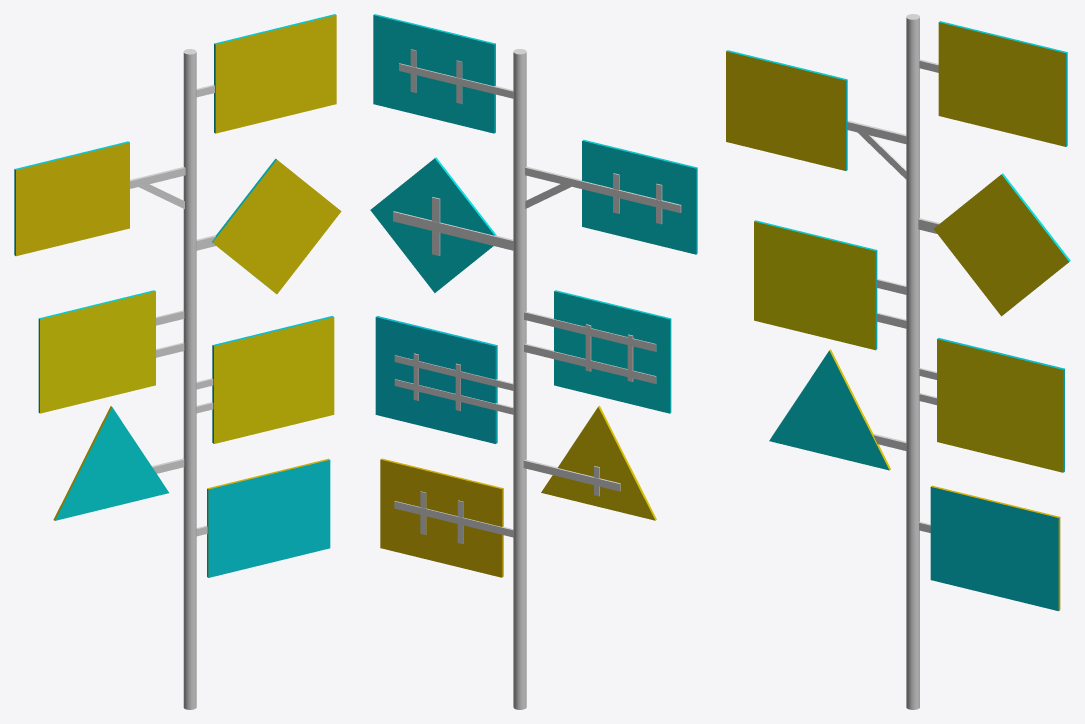
Rendered from pole_001.fbx.
3 views of the same model, side by side, from view 1: azimuth 30°, elevation 25°; view 2: azimuth 150°, elevation 25°; view 3: azimuth 330°, elevation 25° (orthographic). The views are drawn at different scales.
Parts seen in each view (by area): view 1: Cube.076, Cube.084, Cube.080, Cube.073, Cube.083, Cylinder.003, Cube.078, Cube.063, Cube.082; view 2: Cube.076, Cube.073, Cube.080, Cube.084, Cylinder.003, Cube.083, Cube.078, Cube.063, Cube.082, Cube.077, Cube.001, Cube.085 (+5 smaller); view 3: Cube.076, Cube.084, Cube.080, Cube.073, Cube.083, Cube.078, Cylinder.003, Cube.063, Cube.082.
Boxes of the visible parts, x1,y1,x2,y2 form: Cube.076: [212, 316, 334, 443]; Cube.084: [38, 290, 155, 413]; Cube.080: [207, 458, 330, 577]; Cube.073: [214, 14, 336, 133]; Cube.083: [14, 141, 129, 256]; Cylinder.003: [183, 49, 196, 709]; Cube.078: [212, 158, 341, 294]; Cube.063: [53, 406, 168, 520]; Cube.082: [130, 167, 185, 188]; Cube.076: [375, 316, 497, 443]; Cube.073: [373, 14, 495, 133]; Cube.080: [380, 458, 503, 577]; Cube.084: [554, 290, 671, 413]; Cylinder.003: [513, 49, 526, 709]; Cube.083: [582, 140, 697, 254]; Cube.078: [370, 157, 496, 292]; Cube.063: [541, 405, 656, 520]; Cube.082: [525, 166, 681, 212]; Cube.077: [393, 211, 513, 250]; Cube.001: [524, 343, 656, 383]; Cube.085: [524, 311, 656, 351]; Cube.076: [937, 338, 1064, 472]; Cube.084: [754, 220, 877, 350]; Cube.080: [930, 485, 1060, 611]; Cube.073: [938, 21, 1067, 146]; Cube.083: [726, 50, 847, 170]; Cube.078: [933, 173, 1070, 316]; Cylinder.003: [906, 14, 919, 709]; Cube.063: [769, 349, 890, 470]; Cube.082: [847, 120, 906, 143].
Size of the model in its own units: 1804 by 3477 by 63.13.
